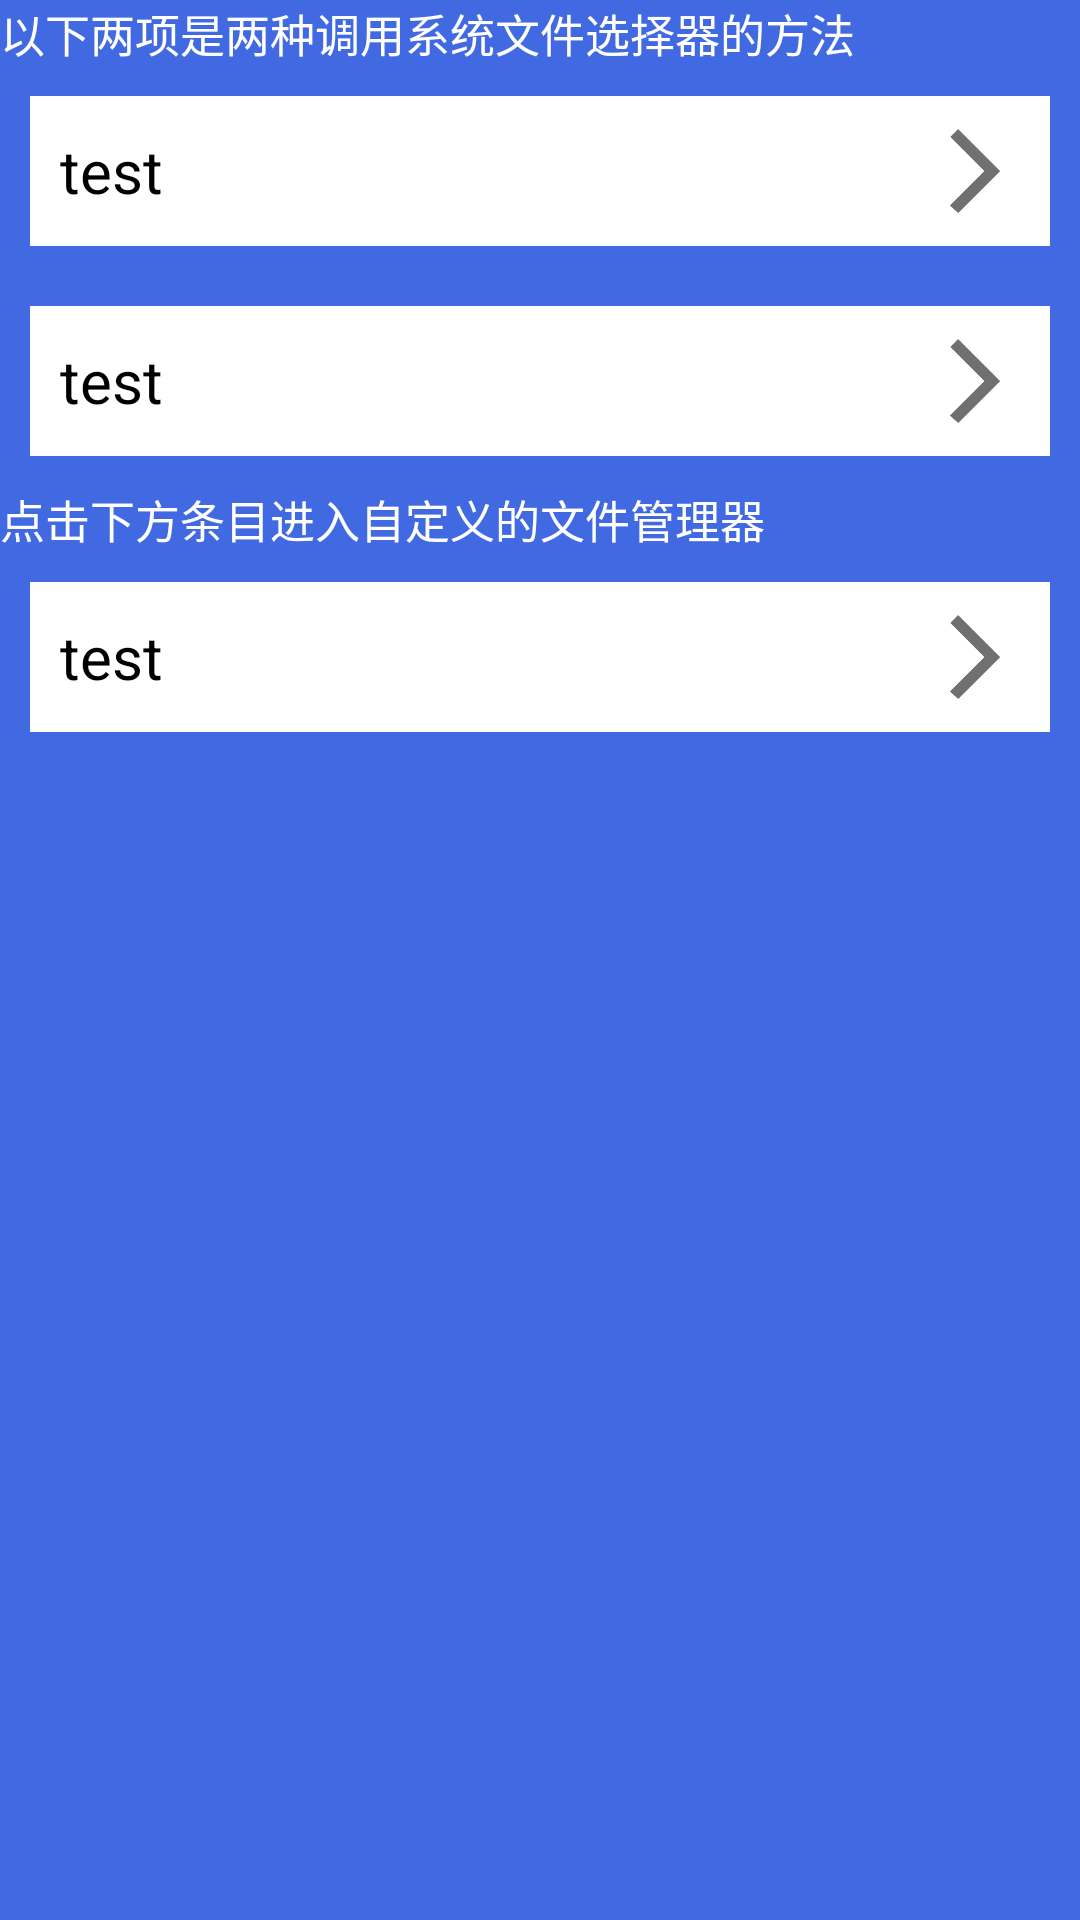

Where to tap for icons on this 1080*1920 app screen, as (x=x, y=y):
arrow right: (x=975, y=171), (x=975, y=381), (x=975, y=657)
